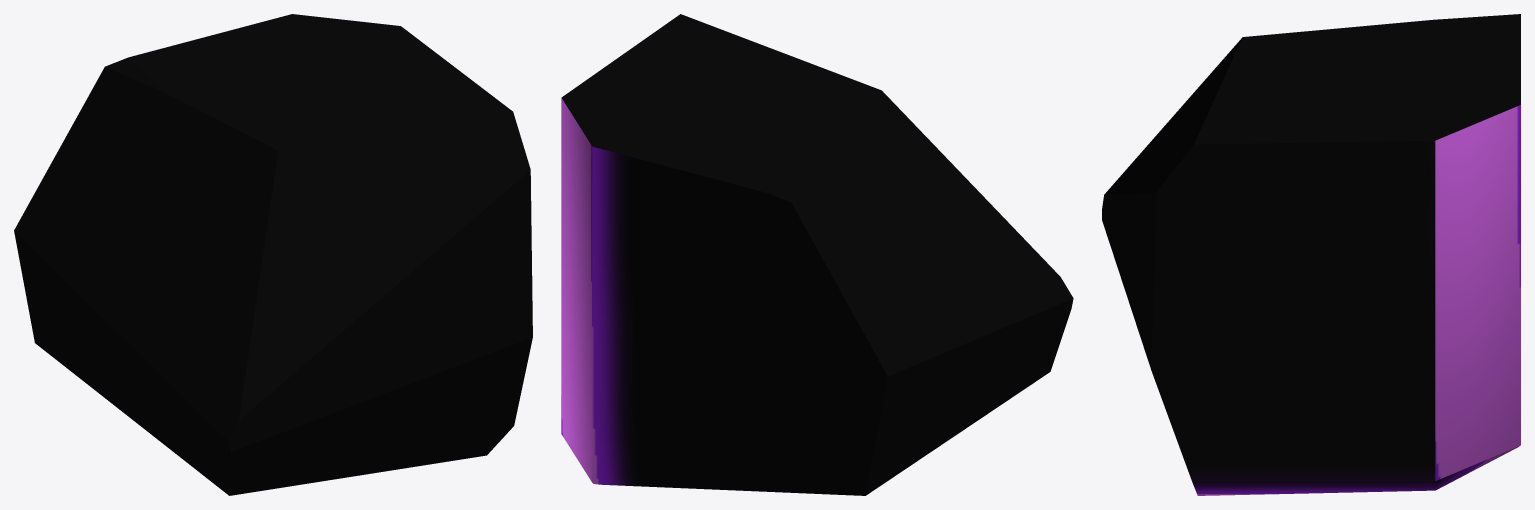
Rendered from blockParticle_1.obj.
3 renders of one model, left to right at view 1: azimuth 30°, elevation 25°; view 2: azimuth 150°, elevation 25°; view 3: azimuth 270°, elevation 25°, orthographic. The views are drawn at different scales.
Visible parts, largest first — view 1: 立方体_cell.001; view 2: 立方体_cell.001; view 3: 立方体_cell.001.
Part boxes in pixels (x1=…): 立方体_cell.001: x1=14, y1=14, x2=532, y2=495; 立方体_cell.001: x1=561, y1=14, x2=1073, y2=495; 立方体_cell.001: x1=1102, y1=14, x2=1520, y2=495.
Bounding box in the file's own units: 1.07 × 1.01 × 1.04.
Materials: 2 (2 with a texture image).
